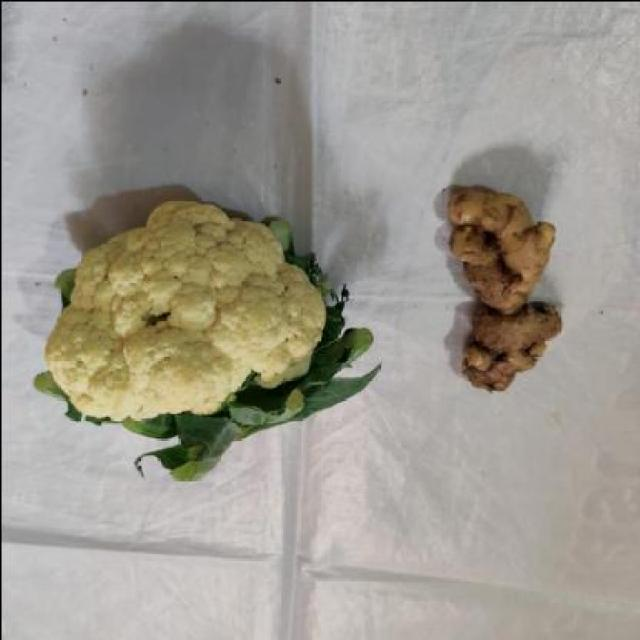Cauliflower: (9, 169, 388, 489)
Ginger: (415, 156, 571, 432)
